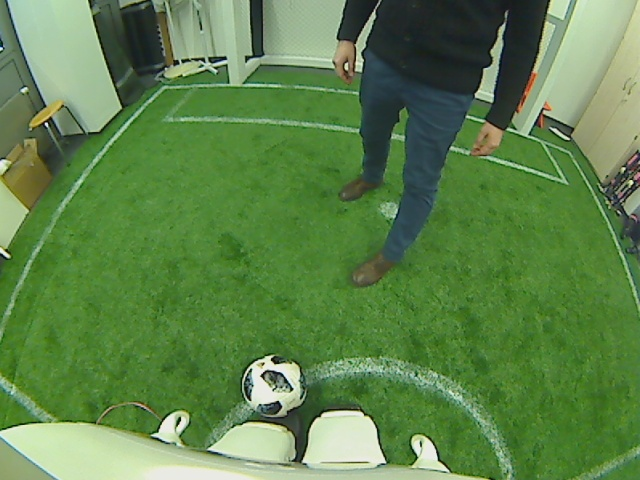ball: (239, 352, 309, 416)
